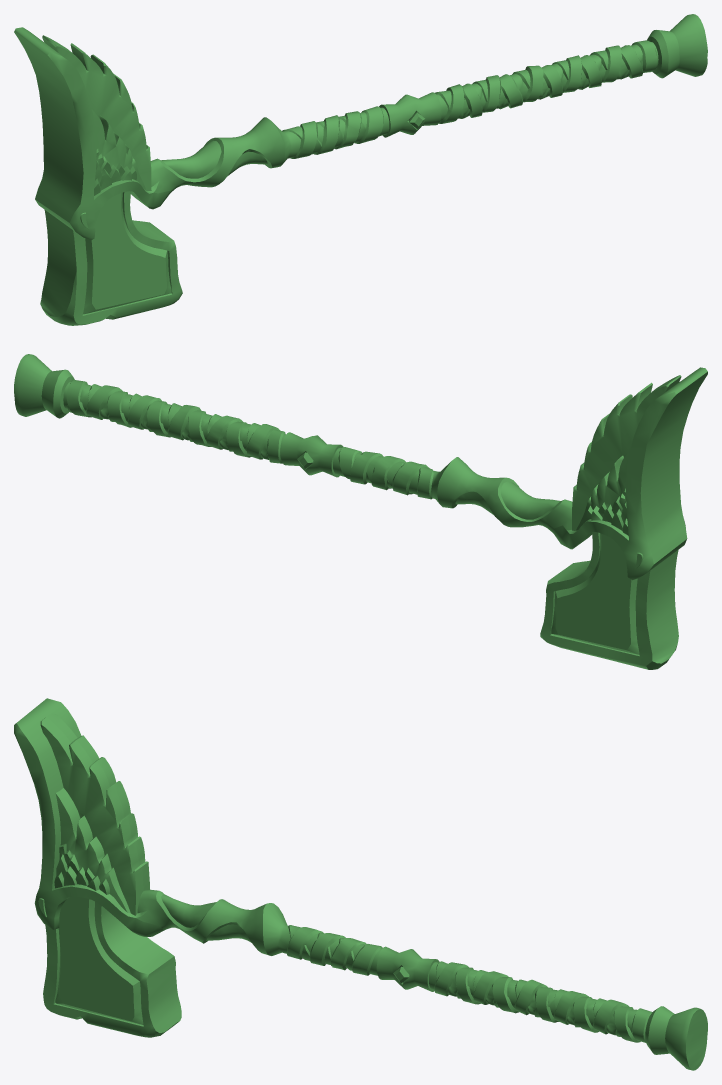
File: SM_Rune_Two_Handed_Hammer_2.fbx
3 views of the same model, one above another, from view 1: azimuth 30°, elevation 25°; view 2: azimuth 150°, elevation 25°; view 3: azimuth 330°, elevation 25° (orthographic).
Parts seen in each view (by area): view 1: SM_Rune_Two_Handed_Hammer_2; view 2: SM_Rune_Two_Handed_Hammer_2; view 3: SM_Rune_Two_Handed_Hammer_2.
Boxes of the visible parts, x1,y1,x2,y2 form: SM_Rune_Two_Handed_Hammer_2: (14, 14, 707, 325); SM_Rune_Two_Handed_Hammer_2: (14, 354, 707, 669); SM_Rune_Two_Handed_Hammer_2: (14, 698, 707, 1070).
Size of the model in its own units: 1.14 by 0.4714 by 0.1233.
